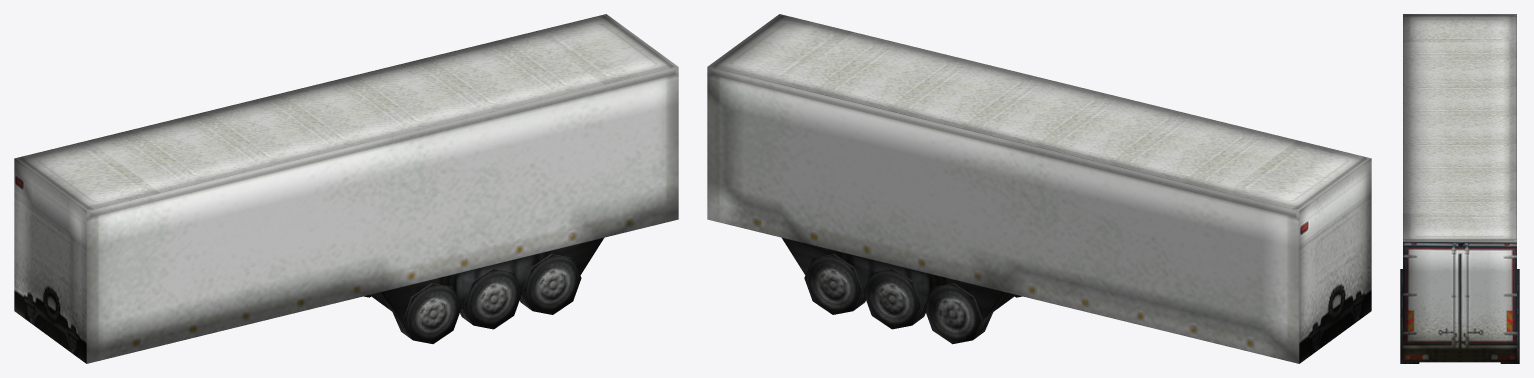
File: lorrytrailer0.fbx
3 views of the same model, side by side, from view 1: azimuth 30°, elevation 25°; view 2: azimuth 150°, elevation 25°; view 3: azimuth 270°, elevation 25° (orthographic). The views are drawn at different scales.
Visible parts, largest first — view 1: lorrytrailer0; view 2: lorrytrailer0; view 3: lorrytrailer0.
Boxes of the visible parts, left/top/right/bottom form: lorrytrailer0: left=14, top=14, right=678, bottom=363; lorrytrailer0: left=707, top=14, right=1371, bottom=363; lorrytrailer0: left=1400, top=14, right=1519, bottom=363.
Size of the model in its own units: 1148 by 254 by 400.
1 material, 1 textured.
